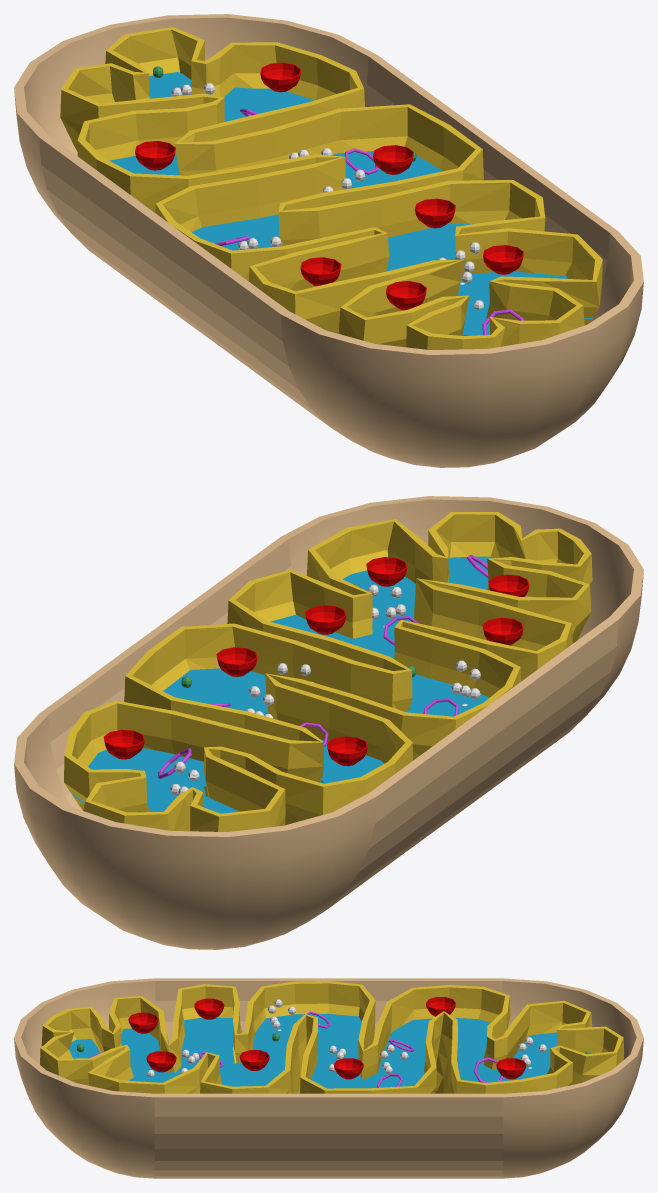
The model's file is Mitochondria.fbx.
3 views of the same model, one above another, from view 1: azimuth 30°, elevation 25°; view 2: azimuth 150°, elevation 25°; view 3: azimuth 270°, elevation 25° (orthographic). The views are drawn at different scales.
Parts seen in each view (by area): view 1: Inner_Membrane, Outer_membrane, Mitochondria_Opaque_Green_Film, Granules, ATP_Particles, DNA; view 2: Inner_Membrane, Outer_membrane, Mitochondria_Opaque_Green_Film, Granules, ATP_Particles, DNA; view 3: Outer_membrane, Inner_Membrane, Mitochondria_Opaque_Green_Film, Granules, ATP_Particles, DNA.
Boxes of the visible parts, x1,y1,x2,y2 form: Inner_Membrane: (60, 27, 602, 349); Outer_membrane: (14, 14, 643, 467); Mitochondria_Opaque_Green_Film: (109, 72, 592, 335); Granules: (135, 62, 523, 310); ATP_Particles: (171, 83, 483, 309); DNA: (215, 108, 523, 335); Inner_Membrane: (64, 512, 592, 831); Outer_membrane: (14, 496, 643, 949); Mitochondria_Opaque_Green_Film: (72, 556, 493, 813); Granules: (103, 557, 529, 766); ATP_Particles: (170, 584, 480, 795); DNA: (158, 554, 488, 778); Outer_membrane: (14, 978, 643, 1178); Inner_Membrane: (40, 981, 623, 1093); Mitochondria_Opaque_Green_Film: (69, 1013, 557, 1088); Granules: (128, 997, 526, 1079); ATP_Particles: (147, 999, 546, 1076); DNA: (89, 1011, 502, 1087).
Bounding box in the file's own units: 6.46 × 3.26 × 14.46.
